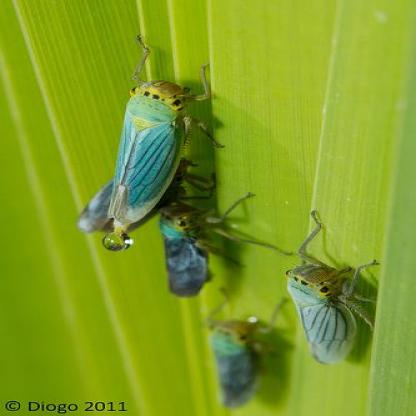Green-Leafhopper: (76, 37, 218, 254), (270, 209, 380, 372), (143, 186, 291, 298), (205, 305, 284, 409), (71, 165, 155, 246)
